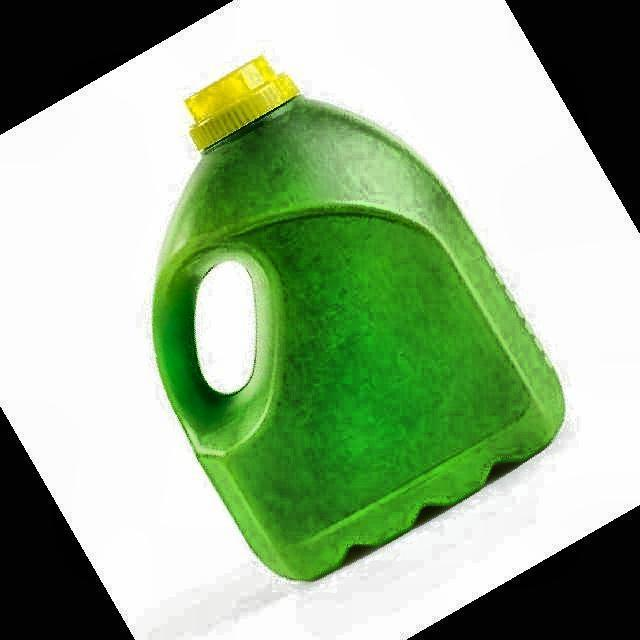plastic: (154, 56, 564, 579)
